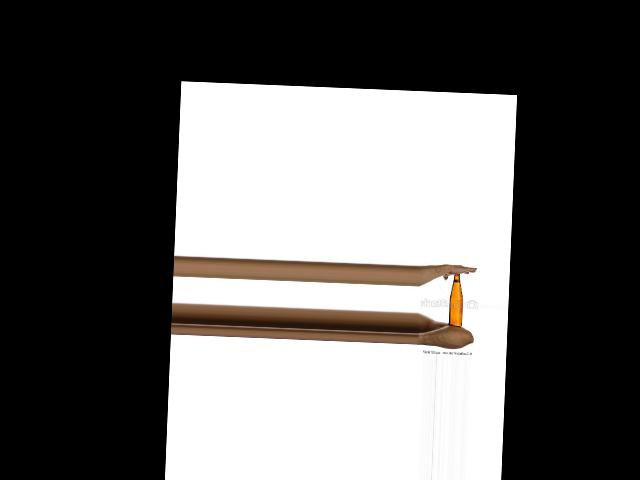beer: (447, 272, 464, 326)
